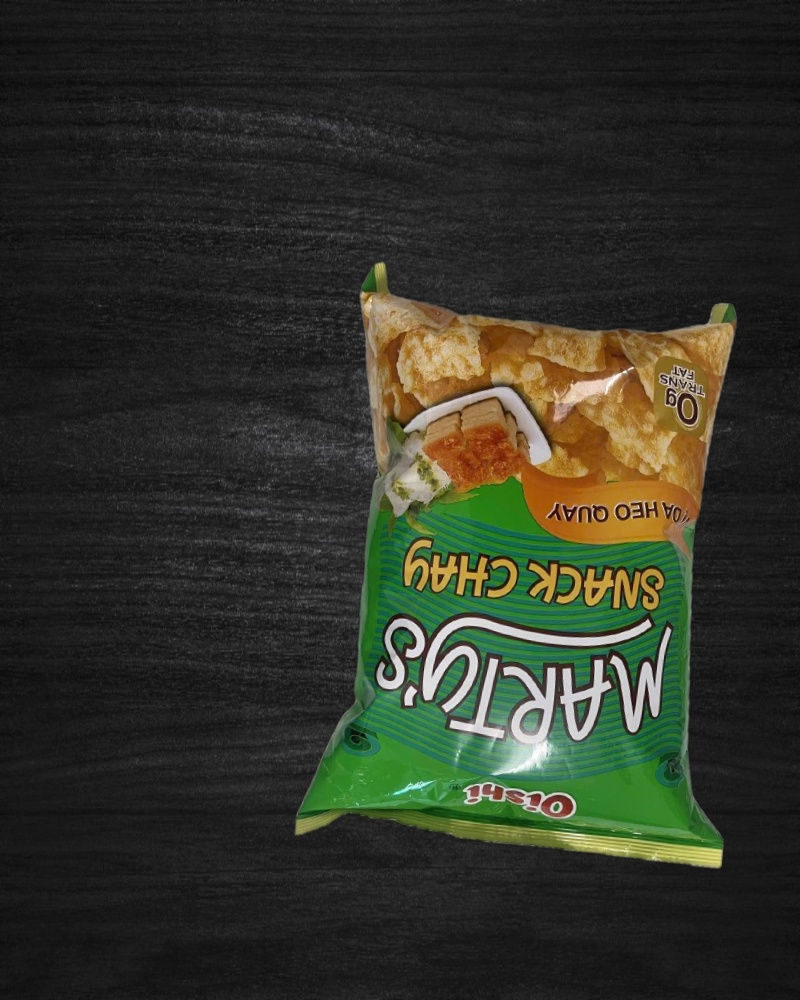Snack chay: (315, 262, 771, 874)
